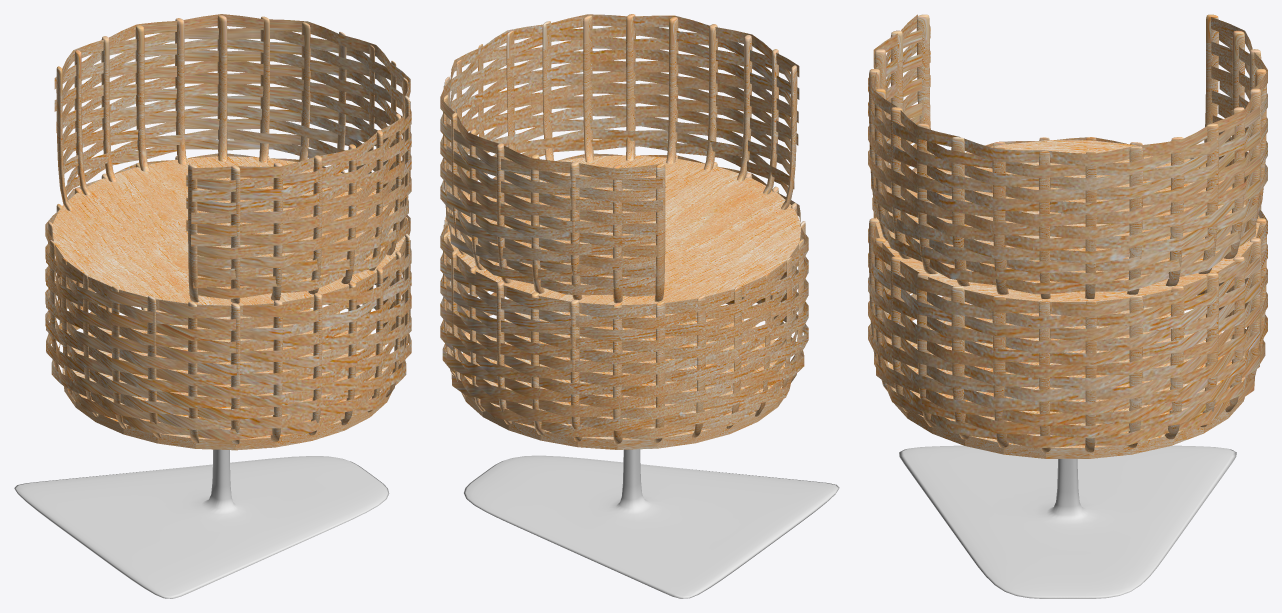
File: LupitaChair.glb
3 renders of one model, left to right at view 1: azimuth 30°, elevation 25°; view 2: azimuth 150°, elevation 25°; view 3: azimuth 270°, elevation 25°, orthographic. The views are drawn at different scales.
Visible parts, largest first — view 1: Cylinder.015, Cube.001, Cylinder.014, Plane.001, Plane, Cylinder.013; view 2: Cylinder.015, Cube.001, Cylinder.014, Plane.001, Plane, Cylinder.013; view 3: Cylinder.015, Cube.001, Plane.001, Plane, Cylinder.014, Cylinder.013.
Part boxes in pixels (box(x1,y1,x2,y2)): Cylinder.015: box(45, 14, 411, 440); Cube.001: box(14, 449, 389, 598); Cylinder.014: box(52, 156, 405, 316); Plane.001: box(56, 15, 409, 303); Plane: box(48, 154, 409, 444); Cylinder.013: box(62, 308, 392, 450); Cylinder.015: box(440, 14, 808, 439); Cube.001: box(464, 449, 839, 598); Cylinder.014: box(447, 155, 801, 314); Plane.001: box(443, 14, 797, 302); Plane: box(443, 153, 805, 444); Cylinder.013: box(459, 311, 789, 449); Cylinder.015: box(868, 14, 1267, 448); Cube.001: box(899, 445, 1236, 598); Plane.001: box(869, 14, 1266, 298); Plane: box(869, 137, 1266, 452); Cylinder.014: box(875, 140, 1259, 313); Cylinder.013: box(888, 307, 1245, 458).
Bounding box in the file's own units: 0.5651 × 0.7168 × 0.5677.
Materials: 2 (1 with a texture image).
